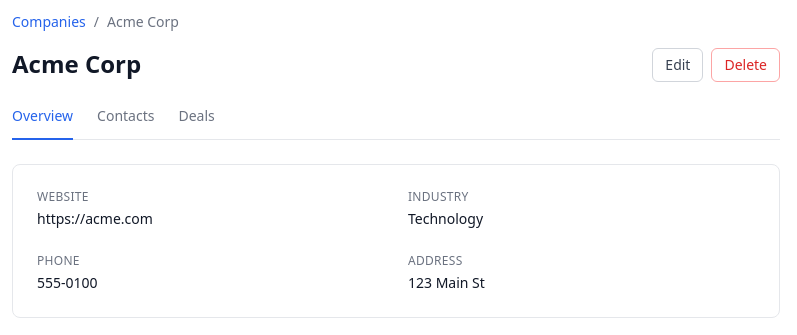
Test case: CompanyDetailPage — tabs › US1-AC2: Deals tab shows linked deals
The width and height of the screenshot is (797, 335).
Expected: the heading "Acme Corp" is shown, left=12, top=48, right=141, bottom=80
Click the button "deals" at (197, 123), box left=178, top=106, right=215, bottom=140
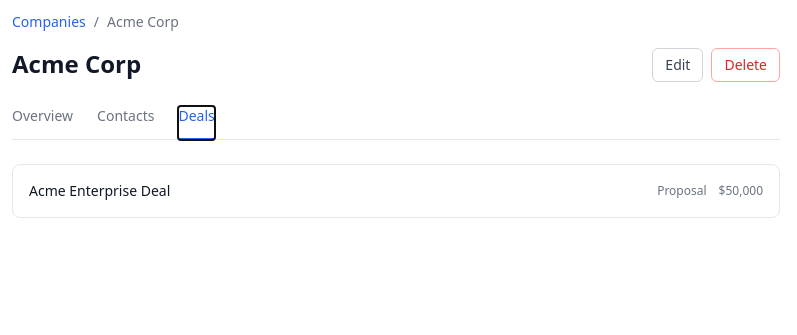
Now the text "Acme Enterprise Deal" is shown, box left=29, top=181, right=170, bottom=201
